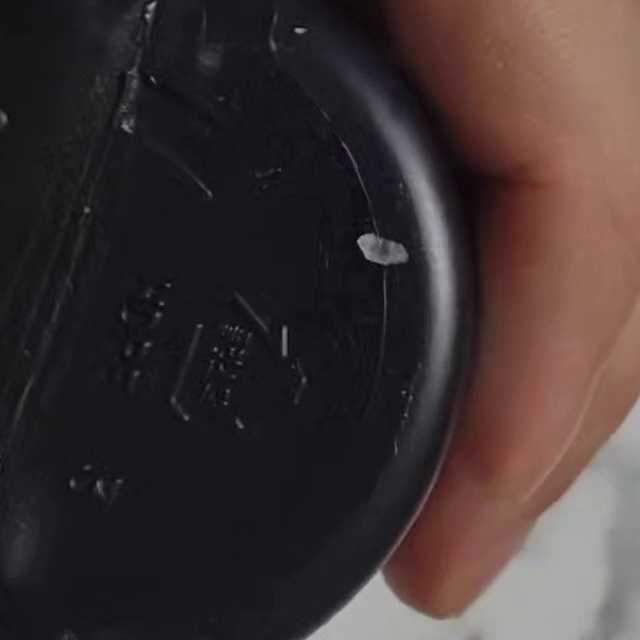Plastic: (173, 290, 312, 430)
